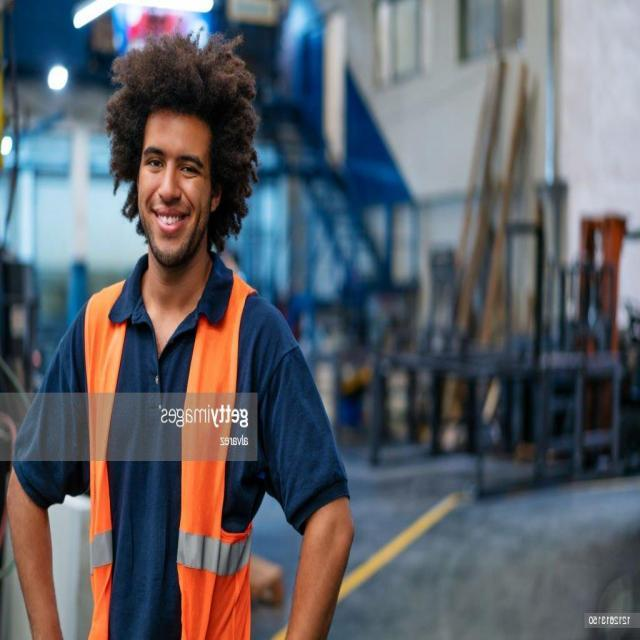reflective_jacket: (71, 268, 262, 637)
